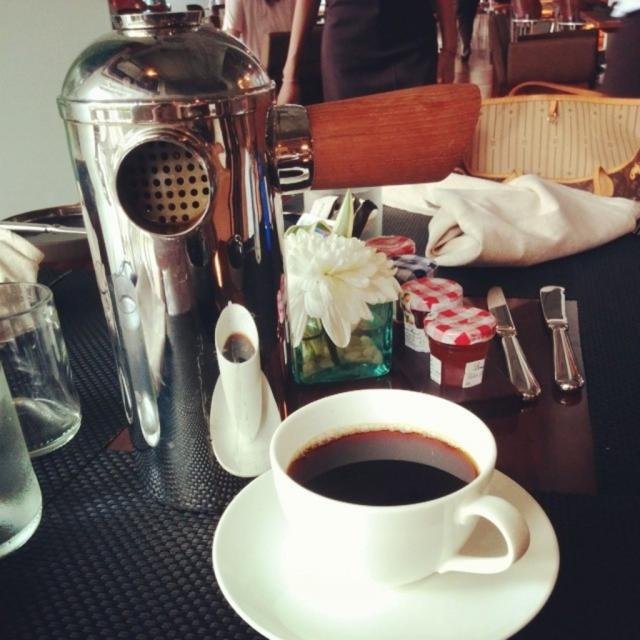Coffee: (253, 394, 539, 619)
Tea: (287, 421, 480, 509)
